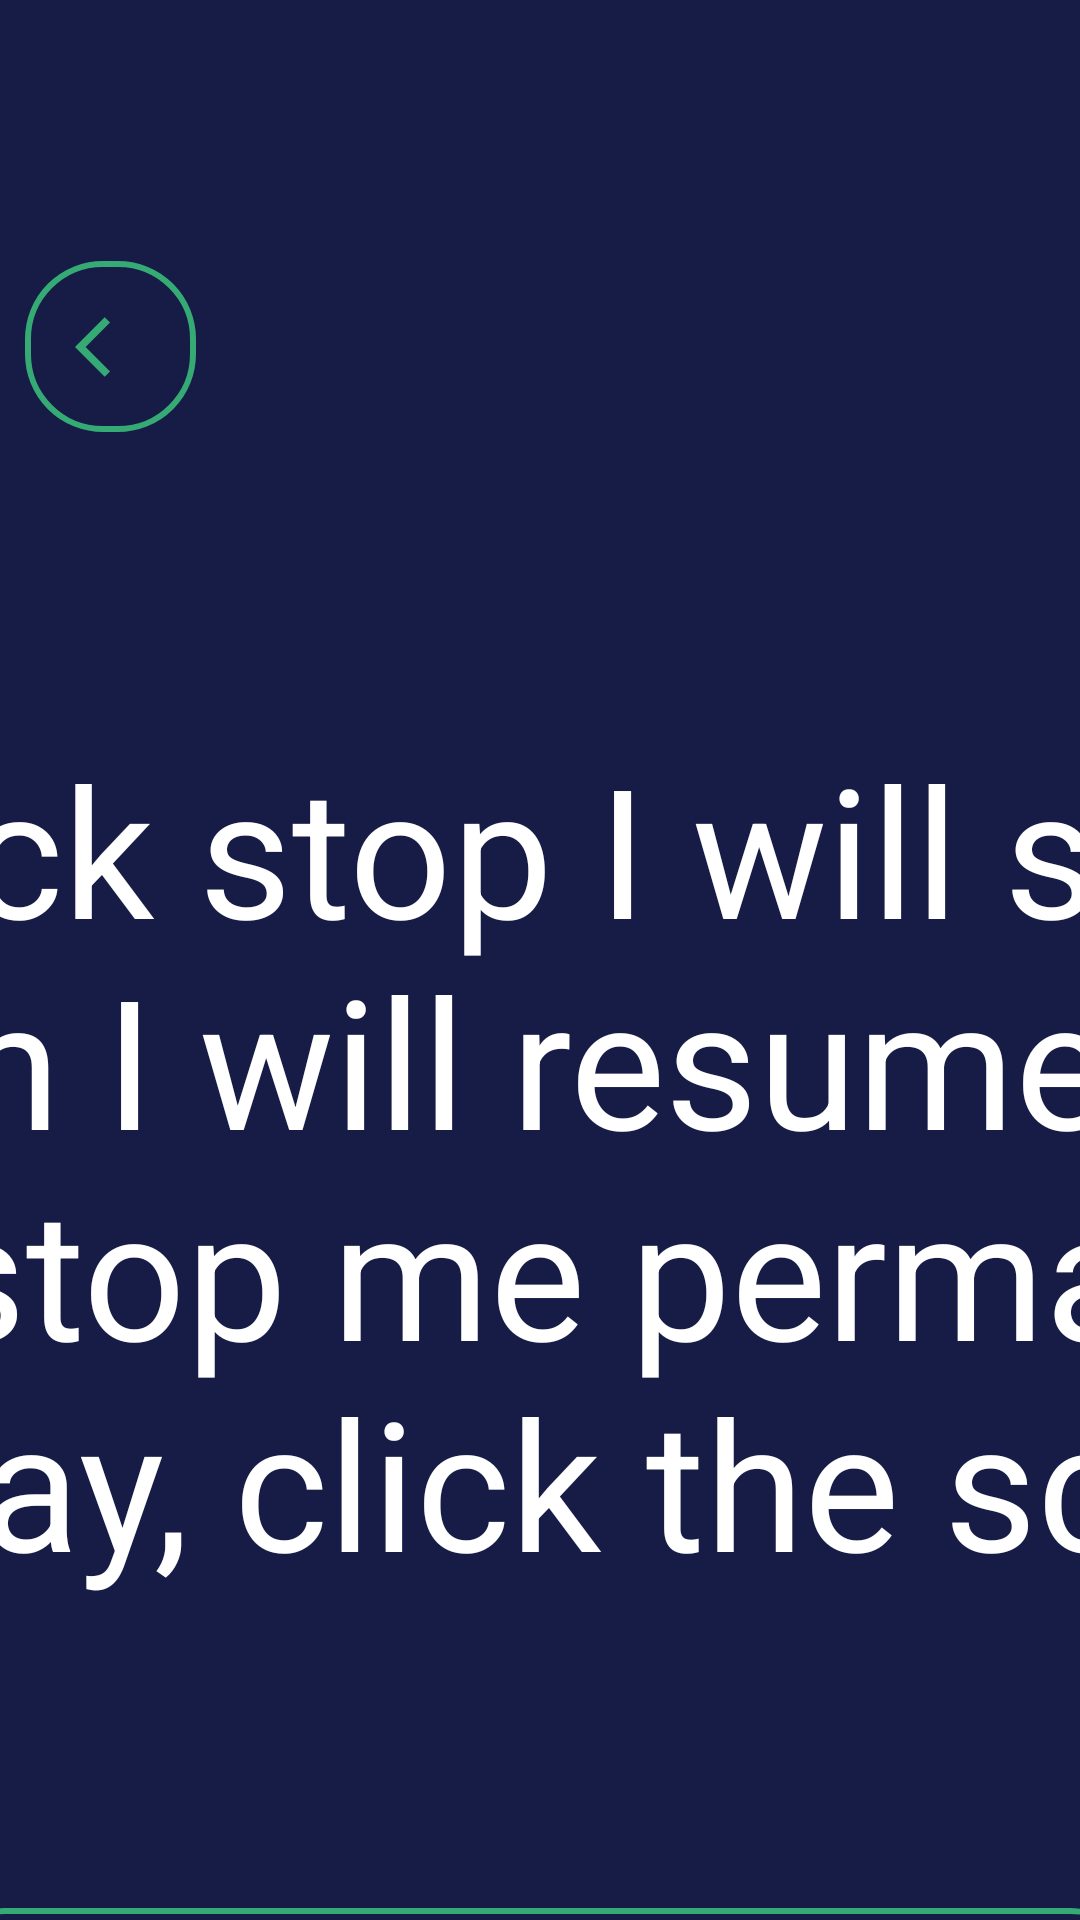

Screen size 1080 x 1920. Icon name, then its box in pixels as rect(x1, y1, x2, y2):
back: rect(25, 261, 196, 432)
